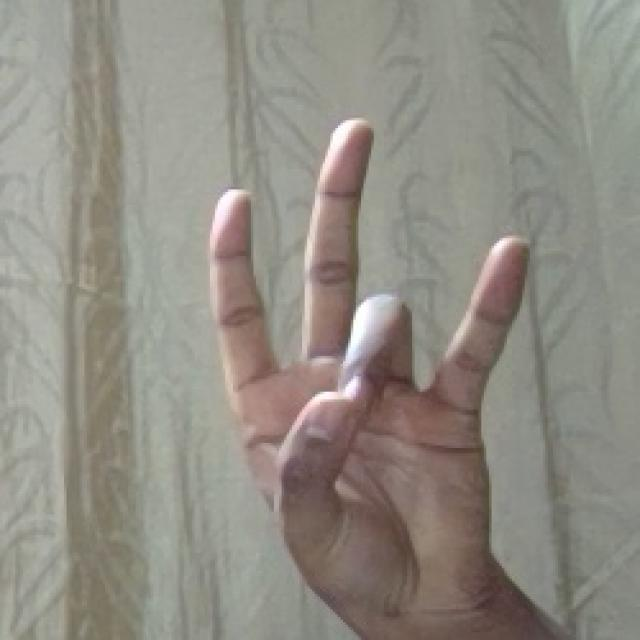Numeric-7: (215, 106, 538, 607)
